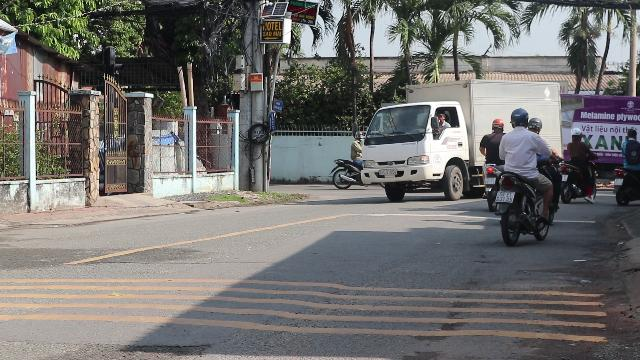helmet: (508, 108, 528, 128)
licenseplate: (496, 189, 514, 202)
motorcyclist: (494, 106, 558, 244)
